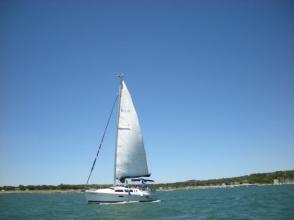fanchuan: (79, 72, 157, 204)
